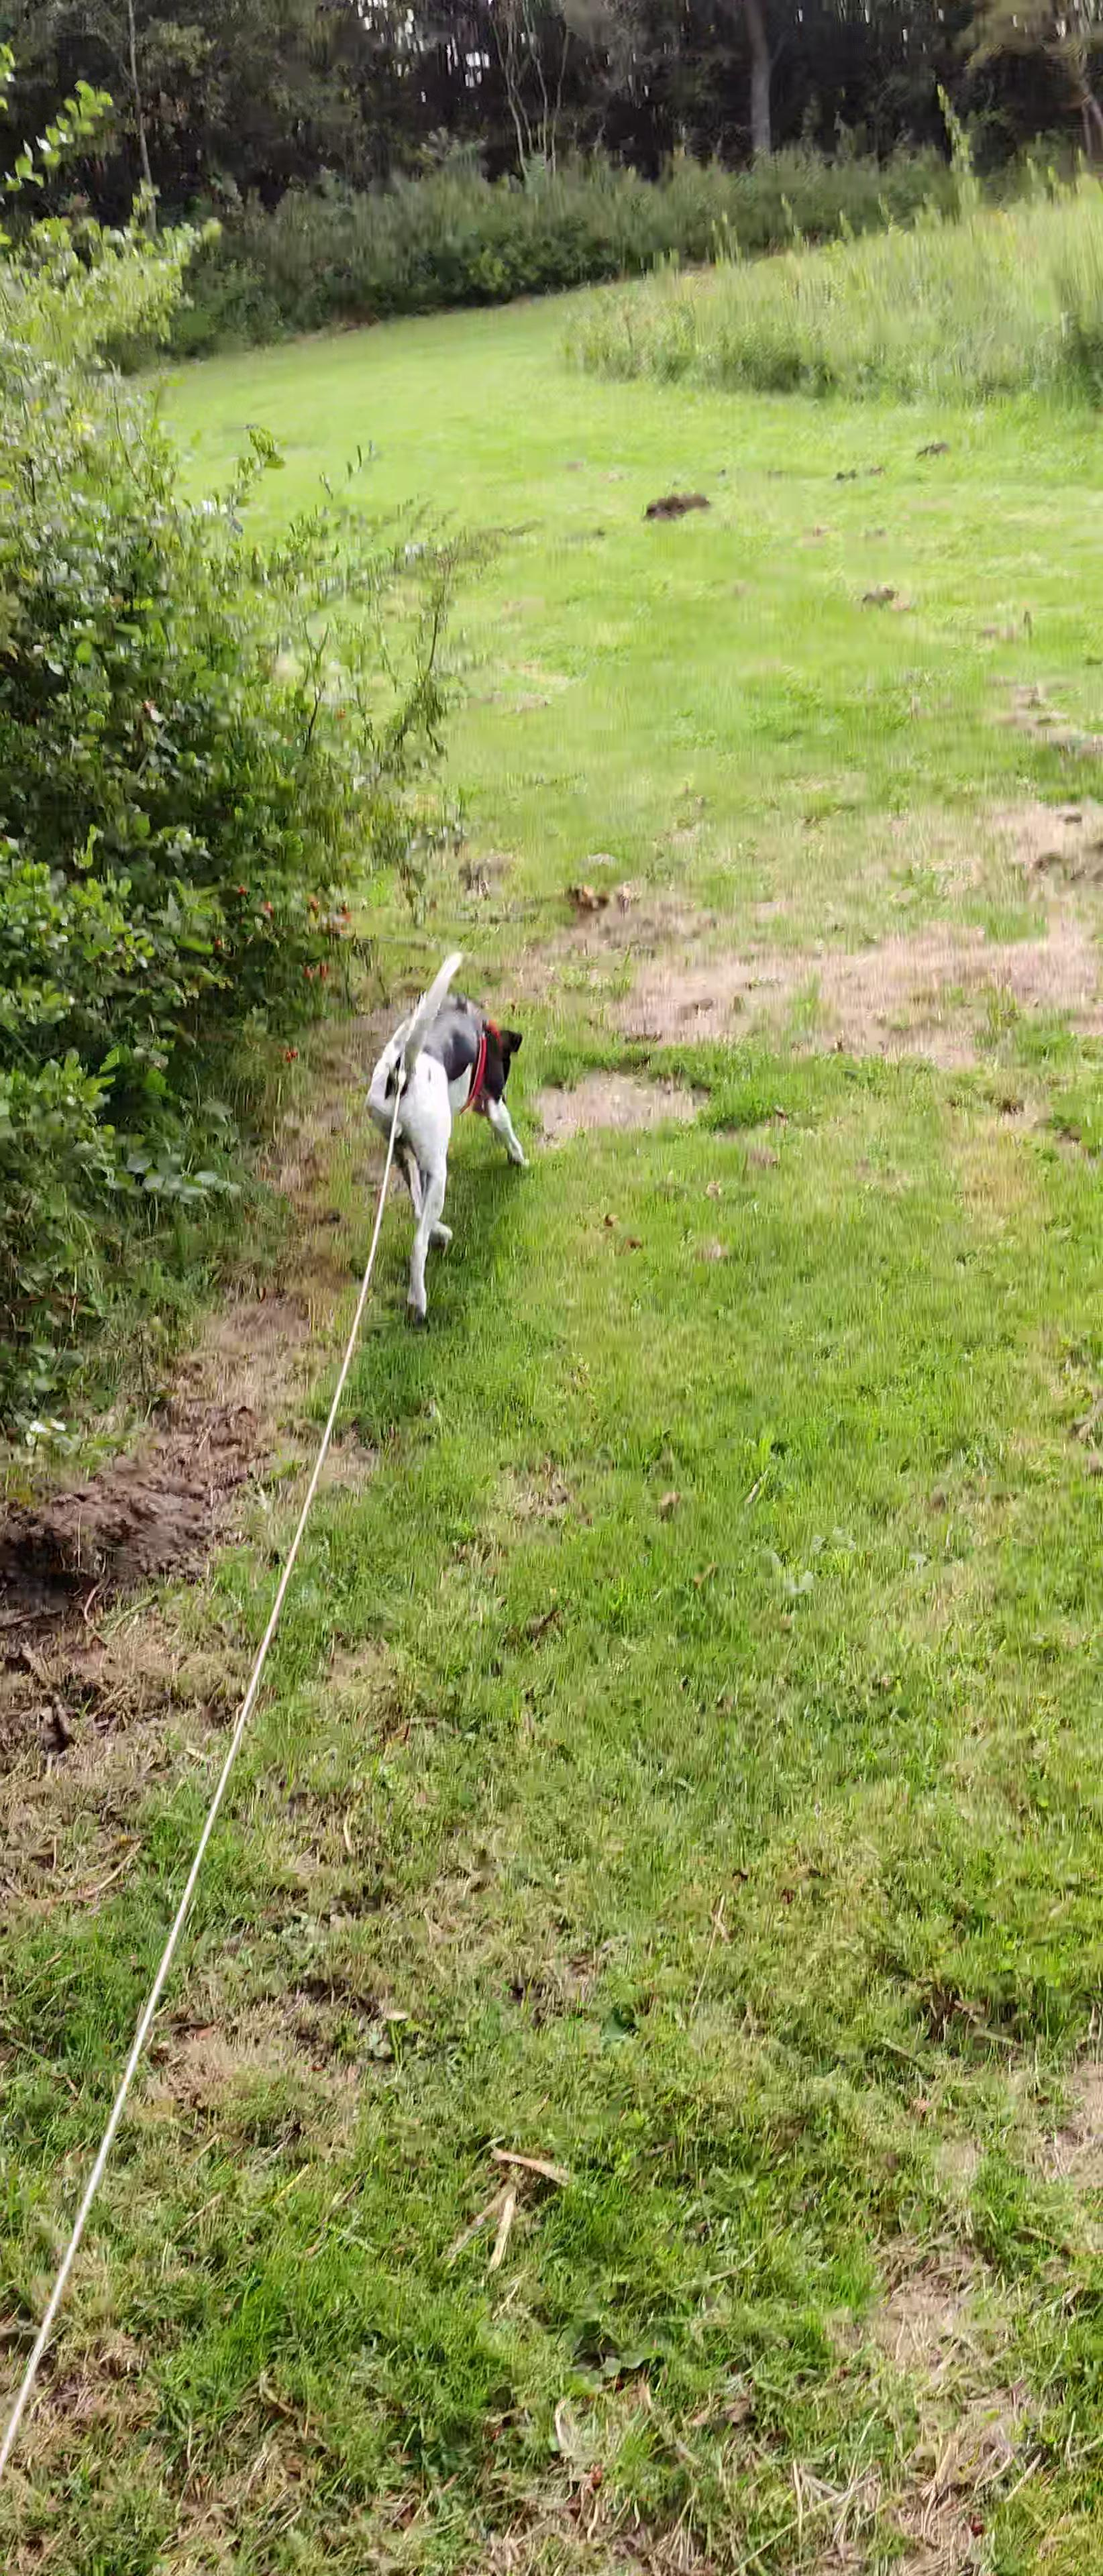Dog: (362, 943, 538, 1324)
